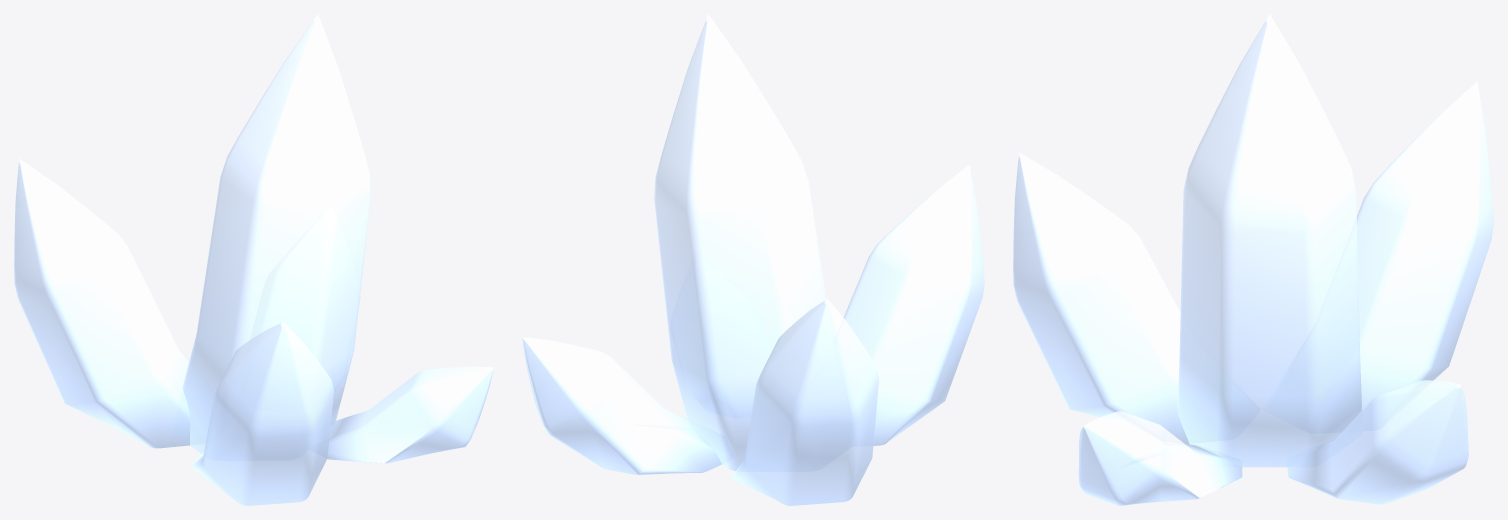
Rendered from crystal-blue.glb.
The picture shows the model from 3 angles, left to right: view 1: azimuth 30°, elevation 25°; view 2: azimuth 150°, elevation 25°; view 3: azimuth 270°, elevation 25°; orthographic projection. The views are drawn at different scales.
Visible parts, largest first — view 1: crystal-blue; view 2: crystal-blue; view 3: crystal-blue.
Part boxes in pixels (x1=…): crystal-blue: x1=14, y1=14, x2=493, y2=505; crystal-blue: x1=522, y1=14, x2=984, y2=505; crystal-blue: x1=1013, y1=14, x2=1493, y2=505.
Bounding box in the file's own units: 1.1 × 1.3 × 1.24.
